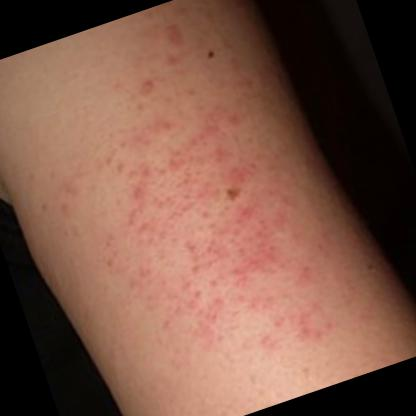Chicken Skin: (32, 23, 347, 416)
